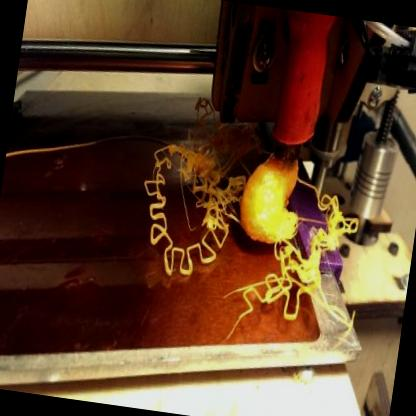fail: (141, 98, 251, 236), (305, 183, 362, 253)
